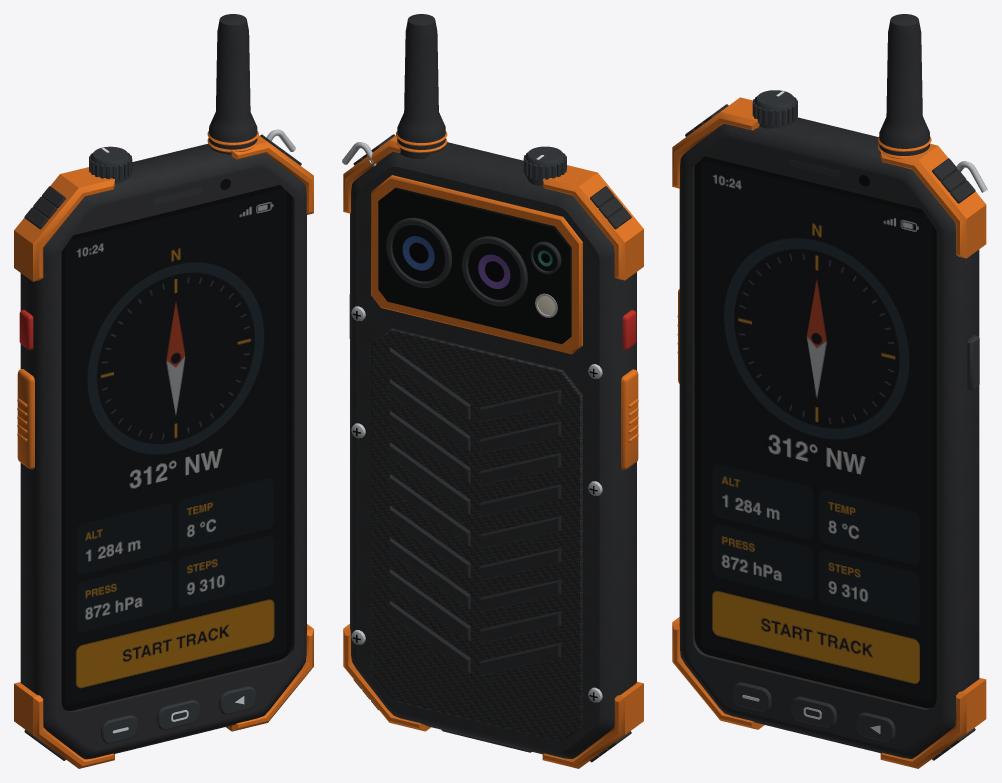
File: rugged-phone.glb
3 views of the same model, side by side, from view 1: azimuth 30°, elevation 25°; view 2: azimuth 150°, elevation 25°; view 3: azimuth 330°, elevation 25° (orthographic). The views are drawn at different scales.
Visible parts, largest first — view 1: Rugged_Phone, Antenna, Button_Talk, Channel_Knob, Button_SOS; view 2: Rugged_Phone, Antenna, Button_Talk, Channel_Knob, Button_SOS; view 3: Rugged_Phone, Antenna, Channel_Knob.
Boxes of the visible parts, x1=… form: Rugged_Phone: x1=14, y1=129, x2=313, y2=768; Antenna: x1=207, y1=14, x2=258, y2=155; Button_Talk: x1=17, y1=369, x2=34, y2=469; Channel_Knob: x1=89, y1=146, x2=132, y2=183; Button_SOS: x1=19, y1=309, x2=33, y2=349; Rugged_Phone: x1=342, y1=134, x2=643, y2=768; Antenna: x1=396, y1=14, x2=447, y2=158; Button_Talk: x1=621, y1=369, x2=638, y2=469; Channel_Knob: x1=523, y1=146, x2=566, y2=185; Button_SOS: x1=622, y1=310, x2=636, y2=349; Rugged_Phone: x1=672, y1=97, x2=987, y2=768; Antenna: x1=877, y1=14, x2=931, y2=158; Channel_Knob: x1=752, y1=90, x2=797, y2=128.
Bounding box in the file's own units: 0.0862 × 0.2052 × 0.0197.
Materials: 19 (3 with a texture image).
